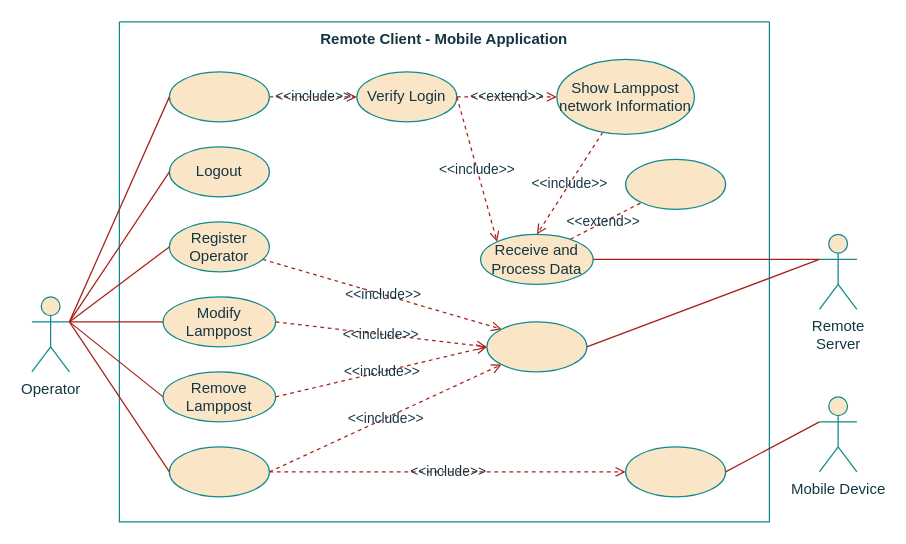
Image size: 906x544. Some labels were removed from this diagram. The box of each missing label's shape, as (x1, y1, x2, y2) in pixels:
Login: (168, 71, 269, 122)
Obtain Geolocation: (624, 446, 726, 497)
Register Lamppost: (168, 446, 269, 497)
Send APP Notification: (624, 158, 726, 209)
Send Data: (486, 321, 587, 372)
